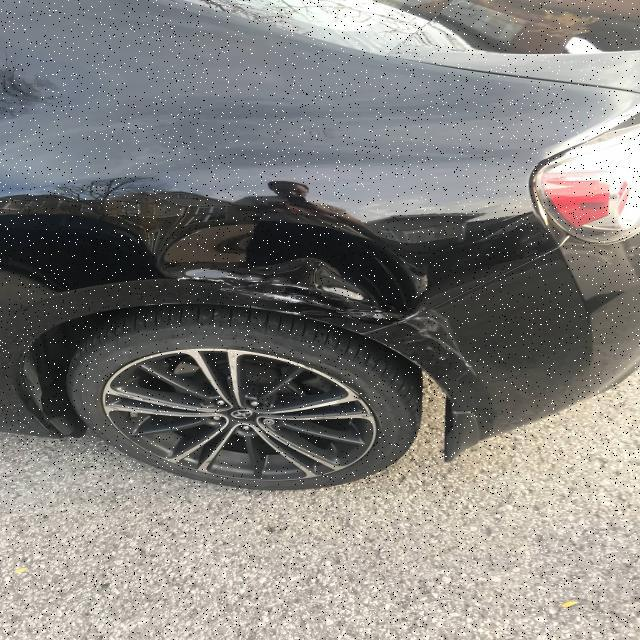quaterpanel-dent: (0, 177, 536, 402)
